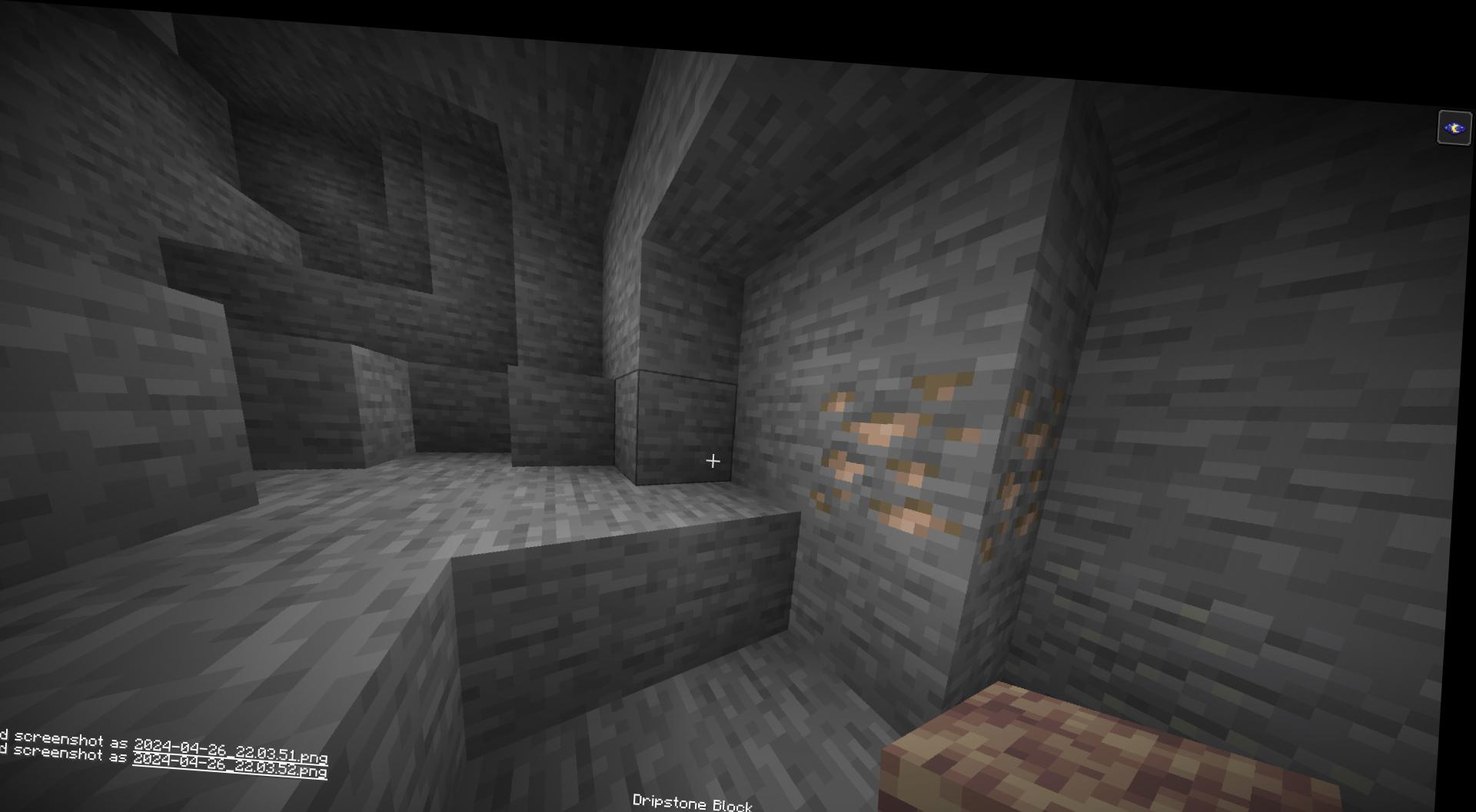iron ore: (810, 351, 991, 535), (985, 364, 1068, 544)
